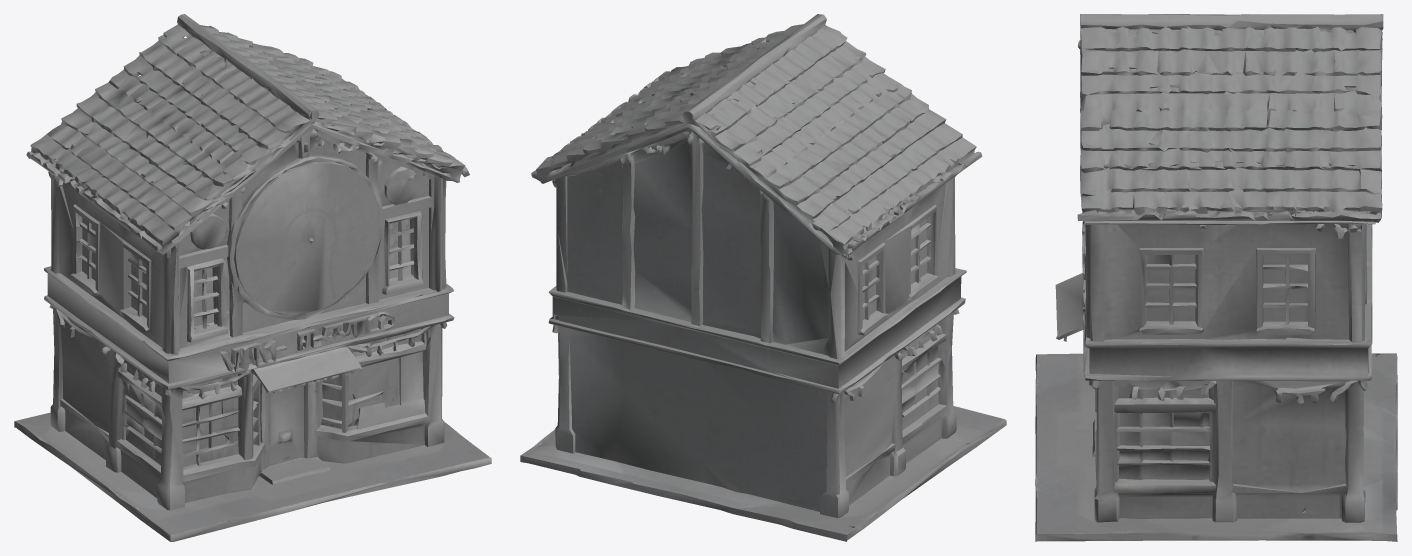
File: B_RECORD_grey.glb
3 renders of one model, left to right at view 1: azimuth 30°, elevation 25°; view 2: azimuth 150°, elevation 25°; view 3: azimuth 270°, elevation 25°, orthographic. The views are drawn at different scales.
Parts seen in each view (by area): view 1: geometry_0; view 2: geometry_0; view 3: geometry_0.
Boxes of the visible parts, x1,y1,x2,y2 form: geometry_0: (14,14,491,541); geometry_0: (520,14,1006,541); geometry_0: (1035,14,1397,541).
Bounding box in the file's own units: 0.8887 × 1 × 0.7502.
1 material, 1 textured.
